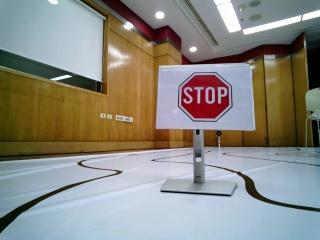stop: (164, 68, 246, 126)
